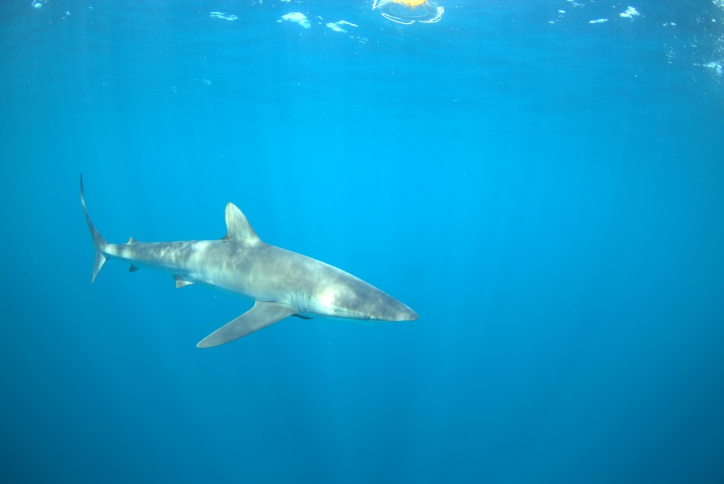Sedoso: (55, 163, 434, 352)
